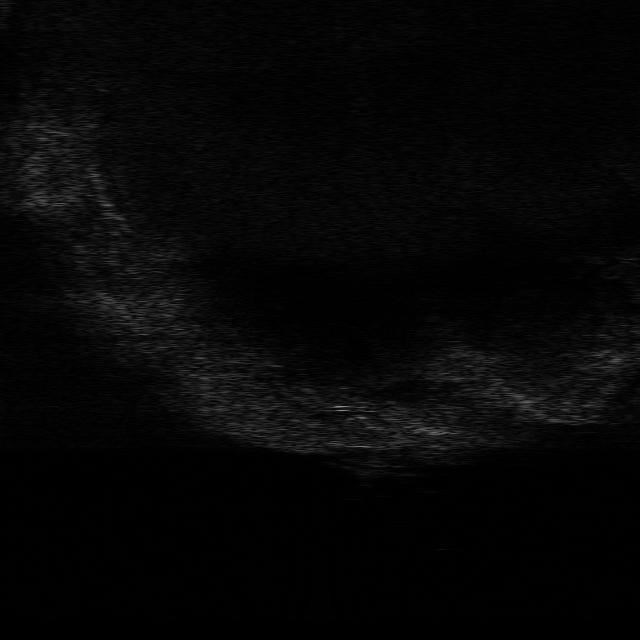plane: (325, 455, 423, 480)
